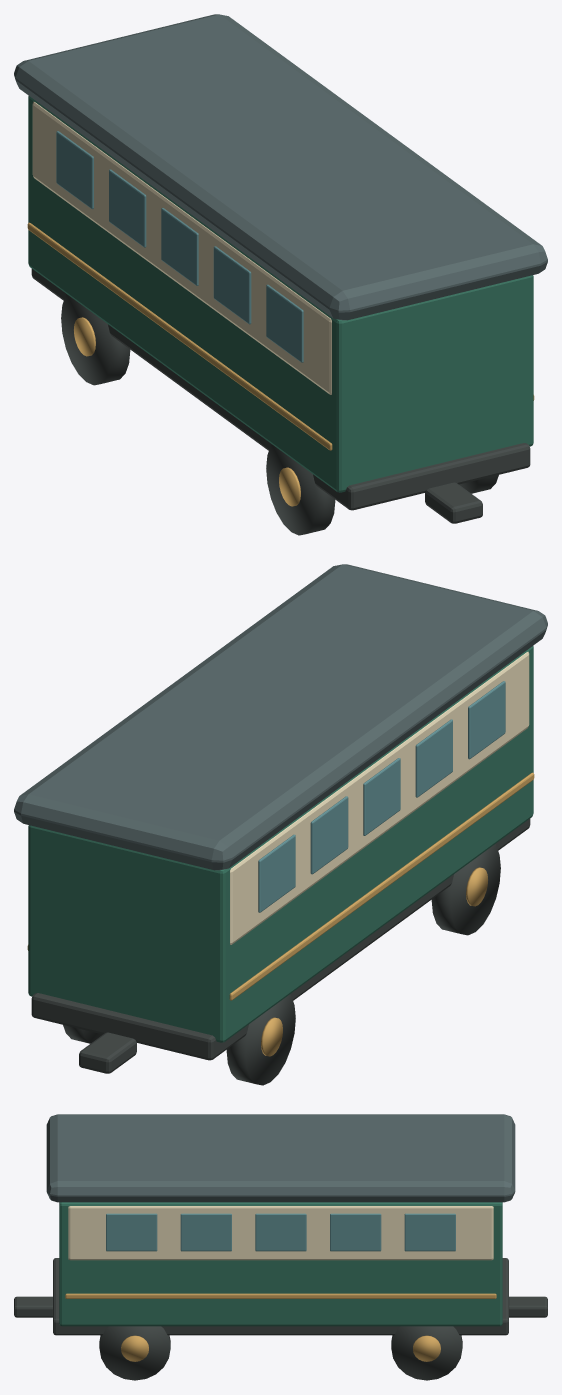
File: coach.glb
3 views of the same model, one above another, from view 1: azimuth 30°, elevation 25°; view 2: azimuth 150°, elevation 25°; view 3: azimuth 270°, elevation 25° (orthographic). The views are drawn at different scales.
Visible parts, largest first — view 1: coach_roof, coach_green, coach_iron, coach_cream, coach_glass, coach_brass; view 2: coach_roof, coach_green, coach_iron, coach_cream, coach_glass, coach_brass; view 3: coach_roof, coach_green, coach_cream, coach_iron, coach_glass, coach_brass.
Part boxes in pixels (x1,y1,x2,y2): coach_roof: (14,14,547,320); coach_green: (28,96,533,492); coach_iron: (31,268,530,535); coach_cream: (32,101,331,394); coach_glass: (56,131,303,362); coach_brass: (27,222,534,506); coach_roof: (14,564,547,870); coach_green: (28,646,533,1042); coach_iron: (31,818,530,1085); coach_cream: (230,651,529,944); coach_glass: (258,681,505,912); coach_brass: (27,772,534,1056); coach_roof: (46,1114,515,1202); coach_green: (59,1202,502,1326); coach_cream: (68,1206,493,1260); coach_iron: (14,1258,547,1380); coach_glass: (106,1213,455,1251); coach_brass: (65,1293,496,1361).
Bounding box in the file's own units: 2.15 × 2.67 × 6.44.
